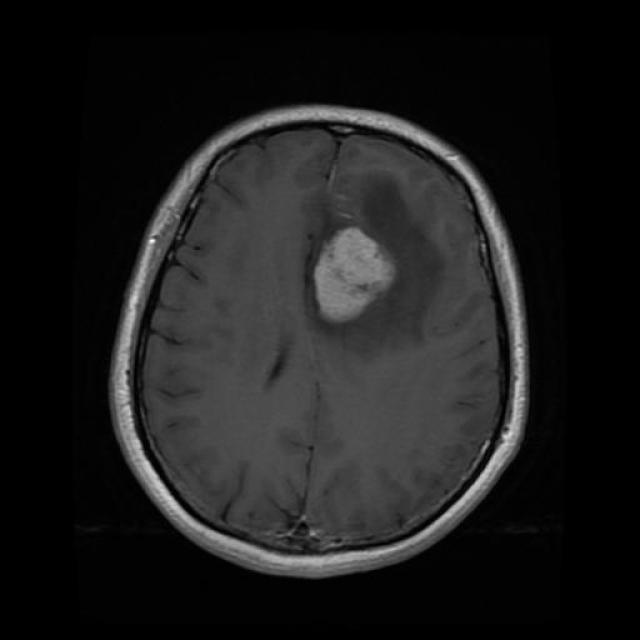meningioma: (315, 230, 396, 324)
